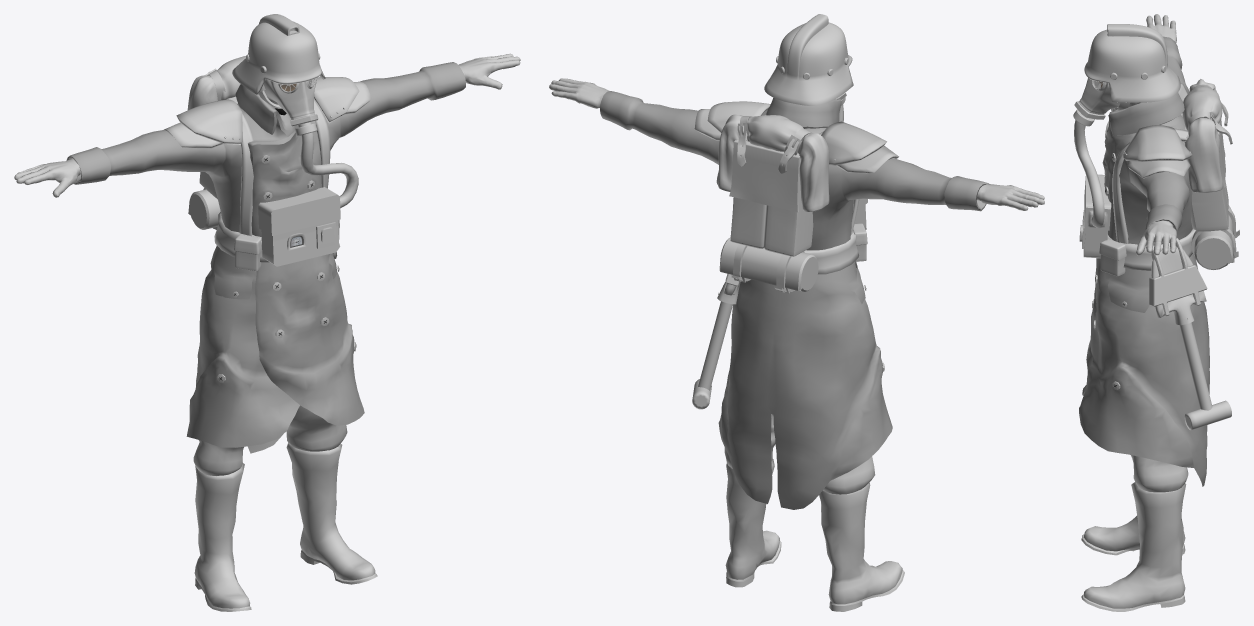
File: KriegModel.fbx
3 renders of one model, left to right at view 1: azimuth 30°, elevation 25°; view 2: azimuth 150°, elevation 25°; view 3: azimuth 270°, elevation 25°, orthographic. The views are drawn at different scales.
Parts seen in each view (by area): view 1: cloth_lower_mesh, cloth_upper_mesh, boots_mesh, leather_items_mesh, helmet_mesh, shoulders_mesh, Pants_mesh, leather_straps_mesh, hands_mesh, backpackCloth_mesh, respirator_tube_mesh, gasmask_leather_mesh (+1 smaller); view 2: cloth_lower_mesh, cloth_upper_mesh, boots_mesh, leather_items_mesh, helmet_mesh, backpackCloth_mesh, shoulders_mesh, backpack_metals_mesh, hands_mesh, shovel_wood_mesh, leather_straps_mesh, Pants_mesh; view 3: cloth_lower_mesh, boots_mesh, cloth_upper_mesh, leather_items_mesh, helmet_mesh, backpackCloth_mesh, shoulders_mesh, shovel_wood_mesh, leather_straps_mesh, Pants_mesh, hands_mesh, backpack_metals_mesh (+5 smaller).
Part boxes in pixels (x1,y1,x2,y2): cloth_lower_mesh: (186, 245, 364, 453); cloth_upper_mesh: (66, 62, 465, 236); boots_mesh: (194, 443, 377, 611); leather_items_mesh: (199, 70, 340, 271); helmet_mesh: (232, 14, 325, 94); shoulders_mesh: (164, 77, 371, 148); Pants_mesh: (193, 276, 347, 475); leather_straps_mesh: (214, 100, 330, 262); hands_mesh: (14, 53, 520, 197); backpackCloth_mesh: (187, 56, 245, 109); respirator_tube_mesh: (300, 132, 358, 208); gasmask_leather_mesh: (264, 78, 316, 119); cloth_lower_mesh: (718, 261, 892, 509); cloth_upper_mesh: (600, 91, 989, 250); boots_mesh: (725, 458, 904, 611); leather_items_mesh: (723, 116, 867, 294); helmet_mesh: (764, 14, 853, 105); backpackCloth_mesh: (716, 114, 829, 211); shoulders_mesh: (694, 101, 898, 173); backpack_metals_mesh: (719, 122, 818, 293); hands_mesh: (549, 78, 1044, 210); shovel_wood_mesh: (692, 301, 732, 409); leather_straps_mesh: (762, 115, 859, 274); Pants_mesh: (724, 414, 875, 494); cloth_lower_mesh: (1079, 254, 1209, 486); boots_mesh: (1081, 482, 1186, 611); cloth_upper_mesh: (1102, 36, 1192, 245); leather_items_mesh: (1079, 84, 1239, 315); helmet_mesh: (1084, 24, 1180, 102); backpackCloth_mesh: (1182, 79, 1222, 192); shoulders_mesh: (1123, 83, 1192, 178); shovel_wood_mesh: (1179, 322, 1231, 430); leather_straps_mesh: (1107, 114, 1195, 270); Pants_mesh: (1131, 455, 1188, 492); hands_mesh: (1136, 14, 1176, 255); backpack_metals_mesh: (1194, 88, 1234, 269).
Bounding box in the file's own units: 176 × 190 × 52.06.
